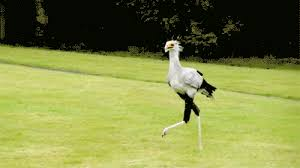Walking: (136, 23, 233, 162)
